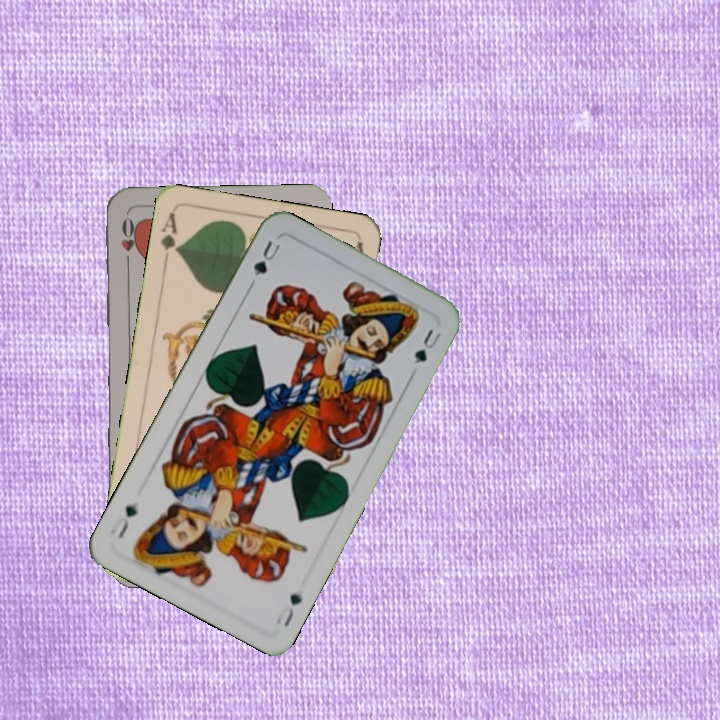GA: (156, 208, 183, 268)
GU: (246, 236, 283, 288), (279, 589, 305, 630)
HO: (117, 213, 138, 271)
